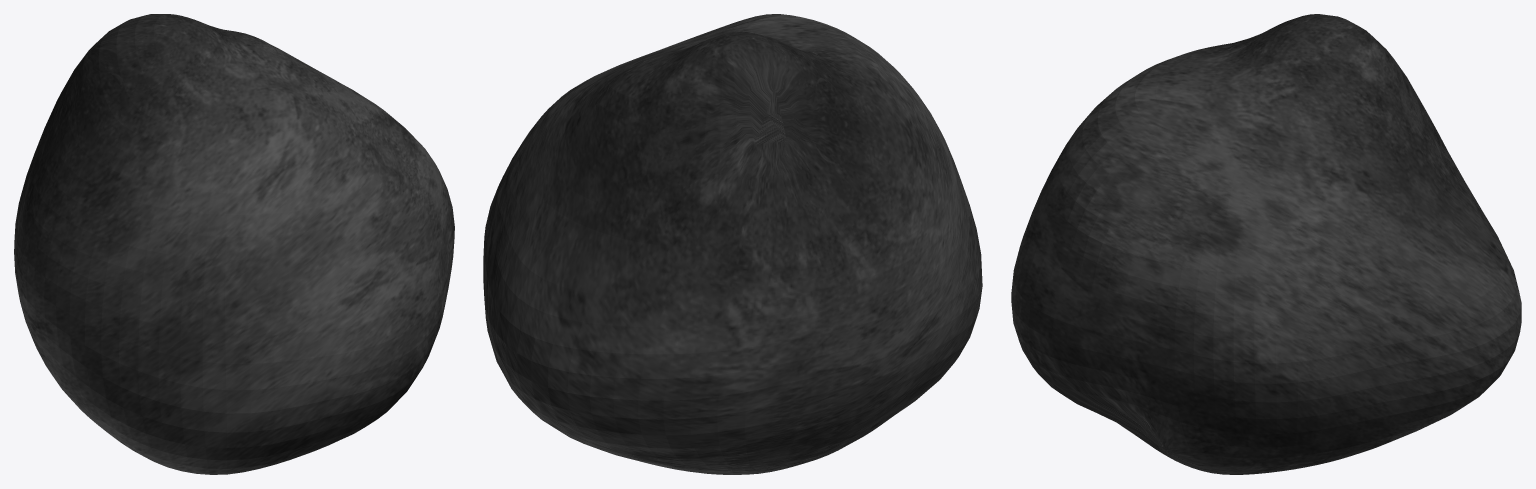
Rendered from Asteroid_2-2.fbx.
The picture shows the model from 3 angles, left to right: view 1: azimuth 30°, elevation 25°; view 2: azimuth 150°, elevation 25°; view 3: azimuth 270°, elevation 25°; orthographic projection. The views are drawn at different scales.
Visible parts, largest first — view 1: Asteroid_1-2.001; view 2: Asteroid_1-2.001; view 3: Asteroid_1-2.001.
Boxes of the visible parts, left/top/right/bottom form: Asteroid_1-2.001: left=14, top=14, right=454, bottom=474; Asteroid_1-2.001: left=483, top=14, right=982, bottom=474; Asteroid_1-2.001: left=1011, top=14, right=1521, bottom=474.
Bounding box in the file's own units: 2.01 × 2.23 × 1.94.
Materials: 1 (1 with a texture image).
